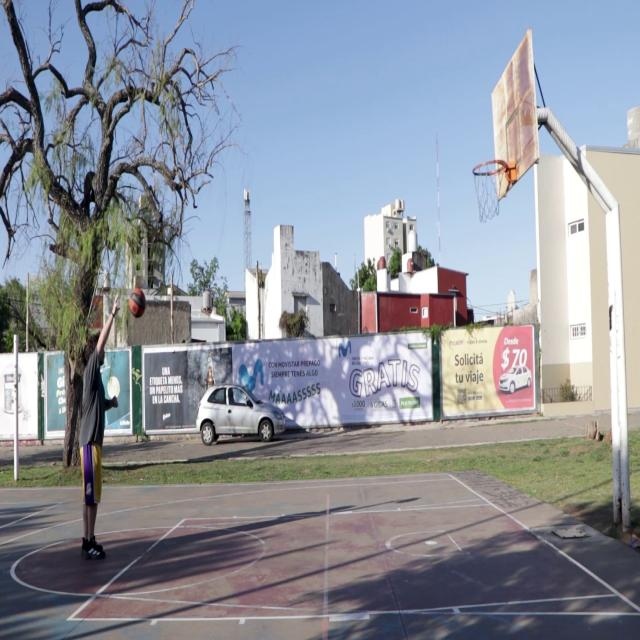ball: (128, 288, 146, 318)
